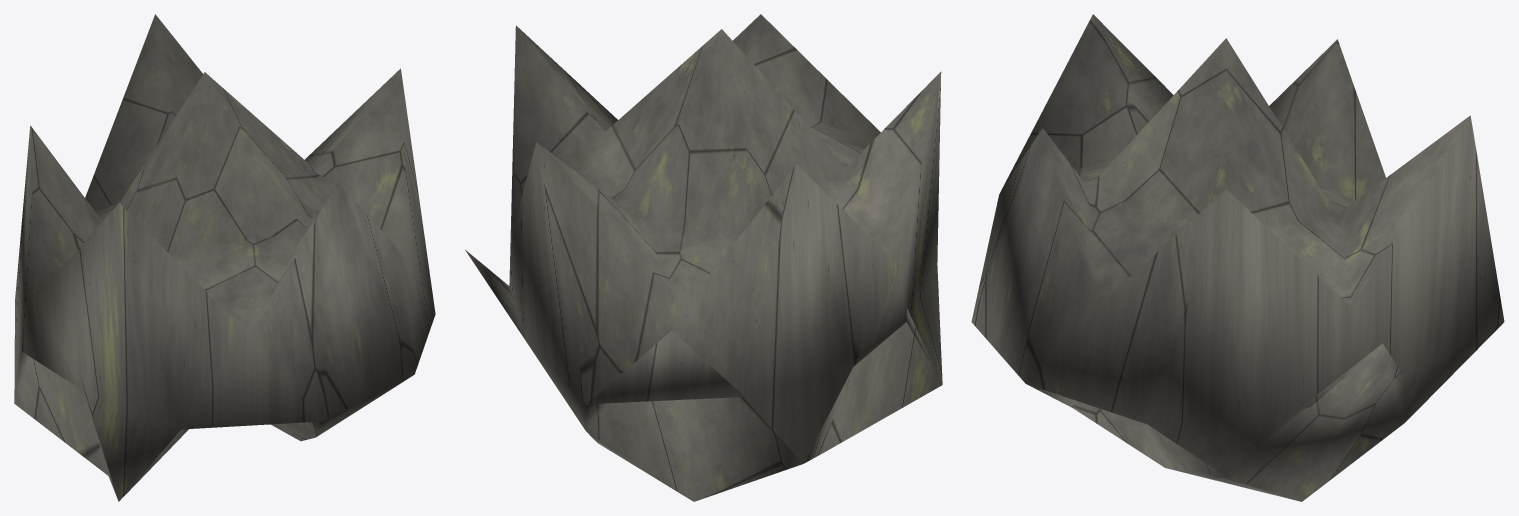
File: Boulder_2.fbx
3 views of the same model, side by side, from view 1: azimuth 30°, elevation 25°; view 2: azimuth 150°, elevation 25°; view 3: azimuth 270°, elevation 25° (orthographic). The views are drawn at different scales.
Visible parts, largest first — view 1: Boulder_2; view 2: Boulder_2; view 3: Boulder_2.
Part boxes in pixels (bbox=[...]): Boulder_2: bbox=[14, 14, 435, 501]; Boulder_2: bbox=[465, 14, 942, 501]; Boulder_2: bbox=[971, 14, 1504, 501].
Bounding box in the file's own units: 1.48 × 1.55 × 1.74.
